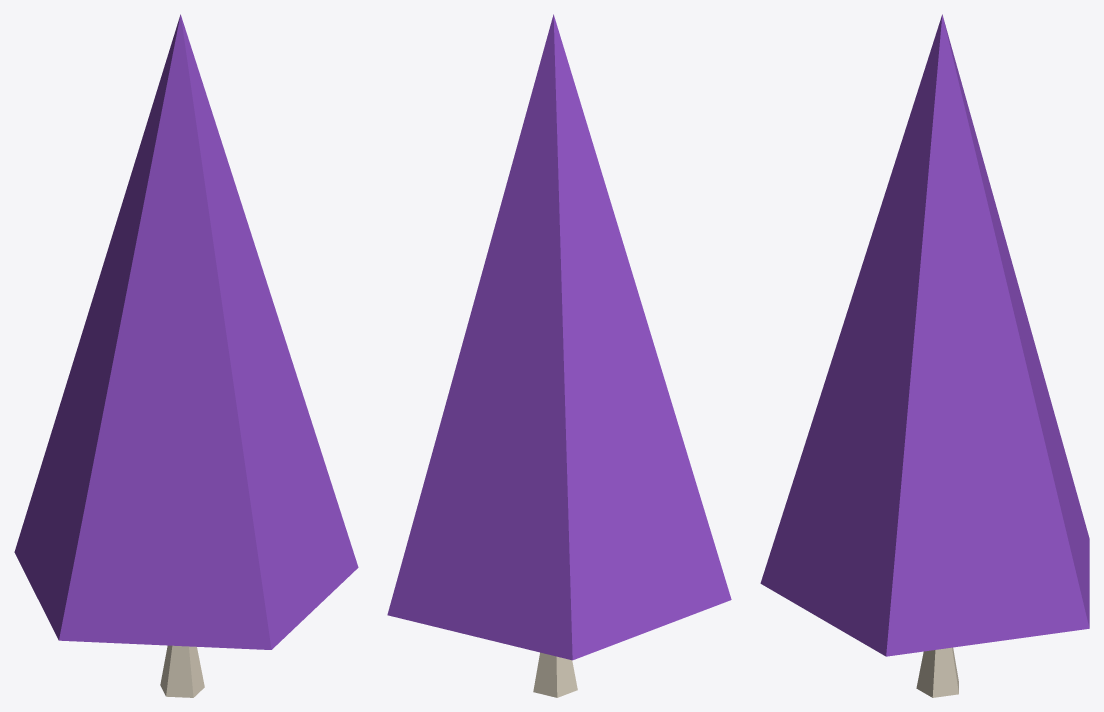
Rendered from land_tree_toy_cone_purple_far.glb.
The picture shows the model from 3 angles, left to right: view 1: azimuth 30°, elevation 25°; view 2: azimuth 150°, elevation 25°; view 3: azimuth 270°, elevation 25°; orthographic projection.
Size of the model in its own units: 4.18 by 9 by 3.98.
